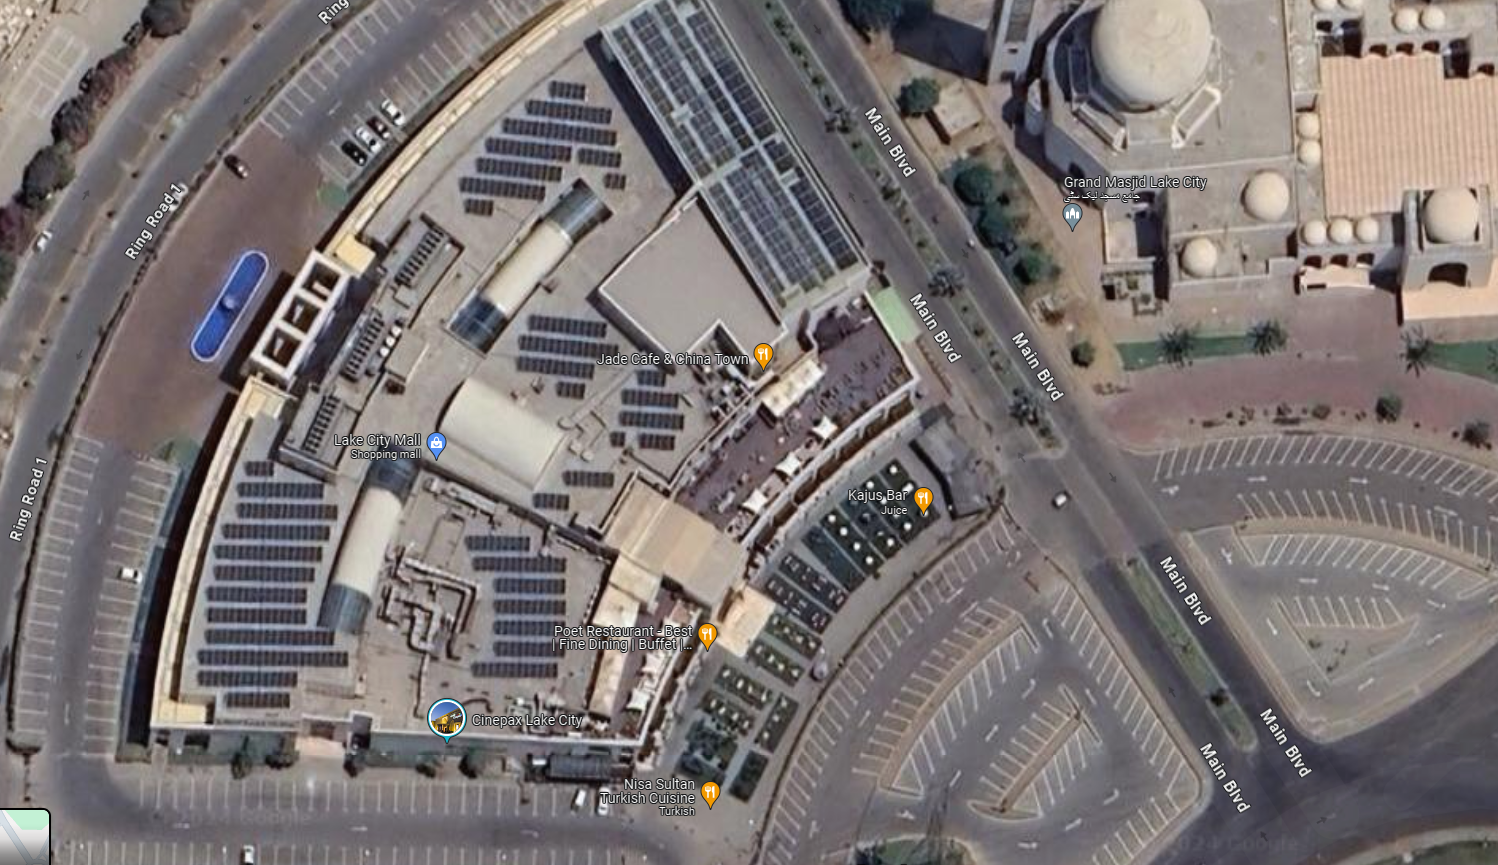solar-panel: (627, 6, 855, 295), (199, 454, 341, 712), (461, 74, 639, 209), (462, 534, 570, 689), (522, 296, 603, 405), (622, 361, 693, 452), (553, 471, 625, 486), (538, 490, 574, 510)
